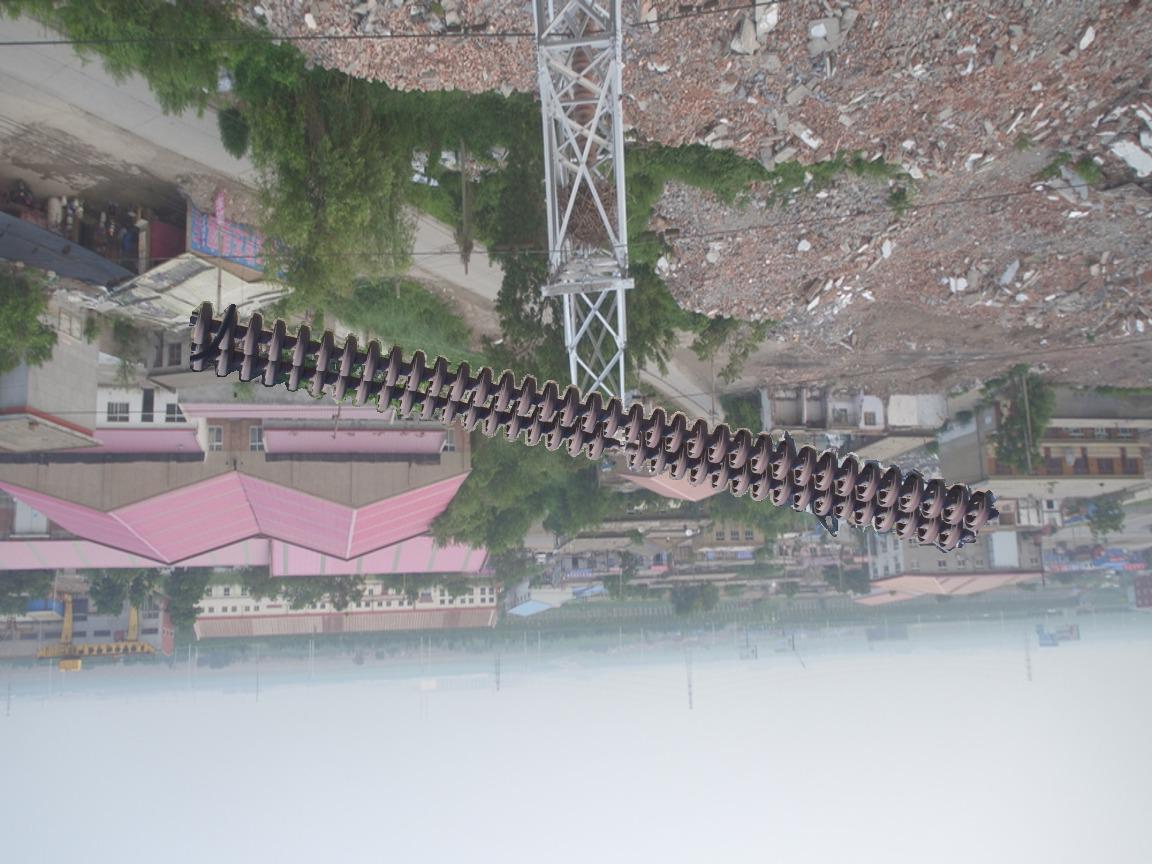insulator: (182, 297, 1004, 554), (567, 11, 599, 170)
insulator_stringdrop: (582, 430, 651, 475)
